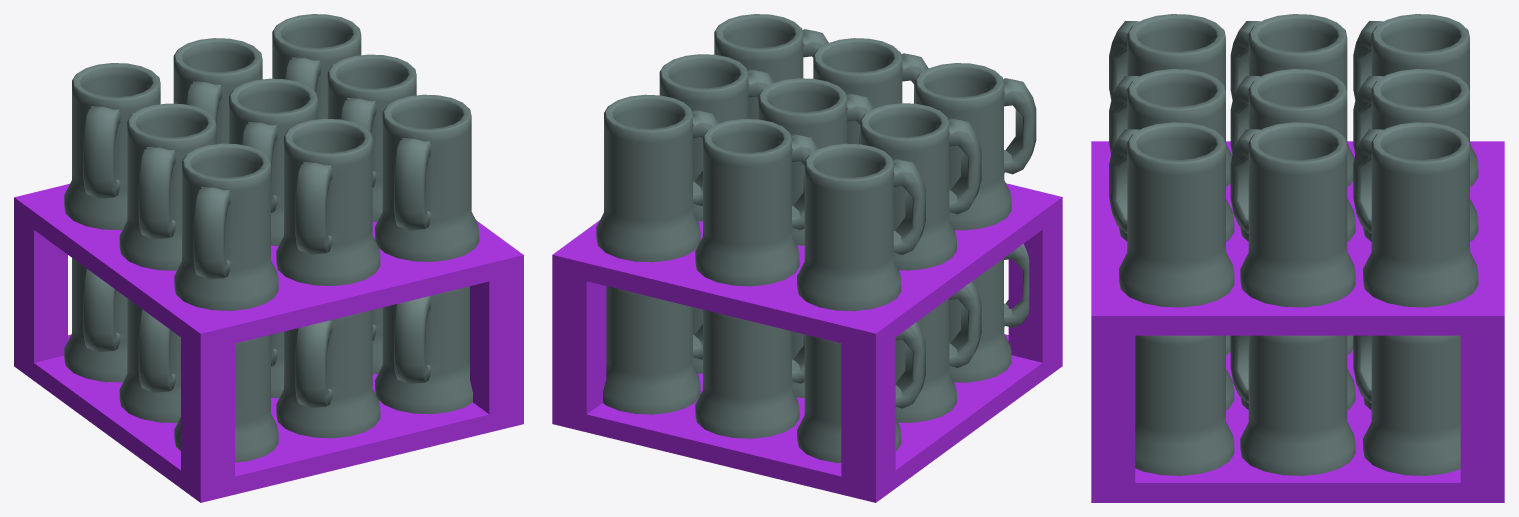
File: mug_box.fbx
The picture shows the model from 3 angles, left to right: view 1: azimuth 30°, elevation 25°; view 2: azimuth 150°, elevation 25°; view 3: azimuth 270°, elevation 25°; orthographic projection. The views are drawn at different scales.
Visible parts, largest first — view 1: Box007; view 2: Box007; view 3: Box007.
Boxes of the visible parts, <box> form: Box007: <box>14,14,523,502</box>; Box007: <box>552,14,1062,502</box>; Box007: <box>1091,14,1504,502</box>.
Size of the model in its own units: 200 by 176 by 200.
